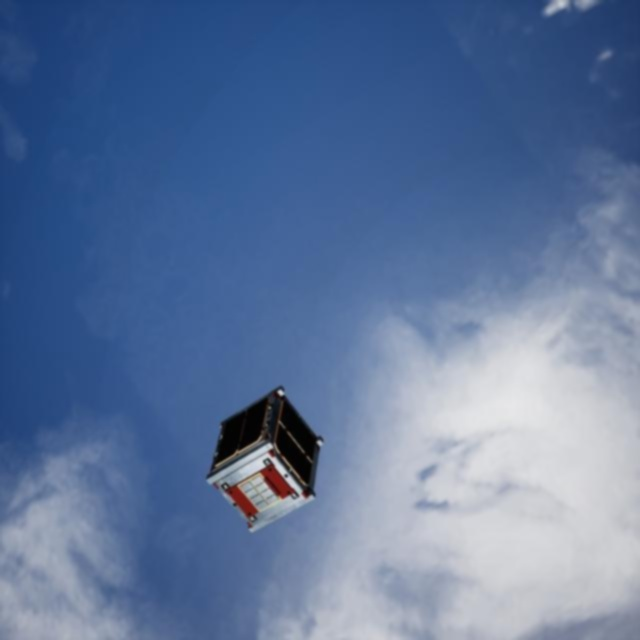satellite: (206, 382, 323, 534)
